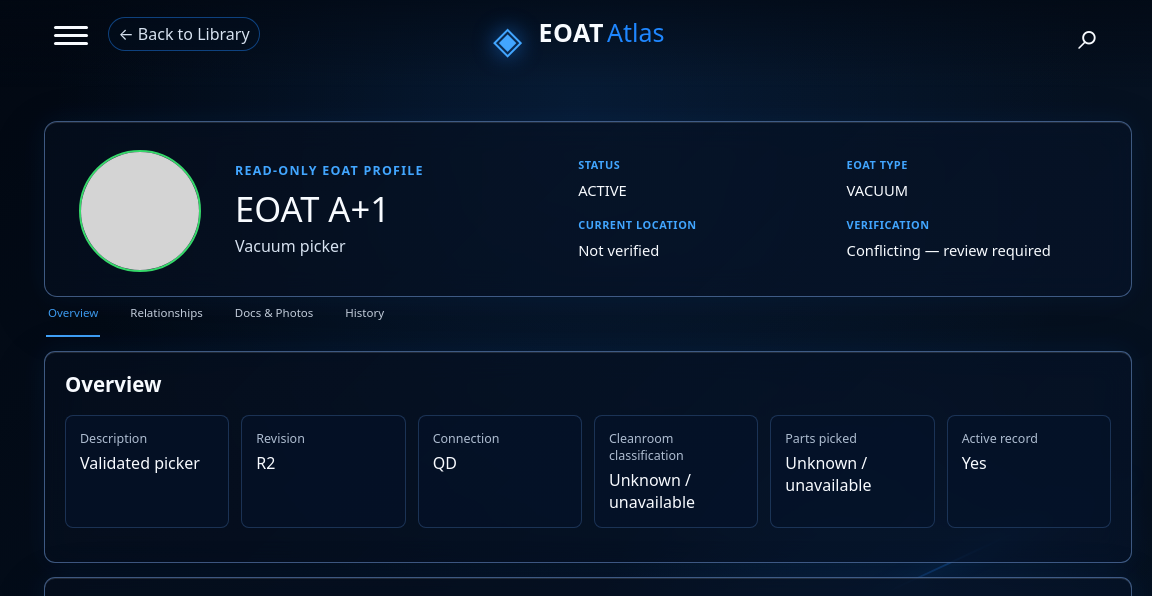
Scenario: EOAT profile route › keeps loaded identity visible when a secondary endpoint fails
Expected: the heading "EOAT A+1" is shown, [235,184,390,232]
Click the link "Relationships": (166, 312) [130,305,203,320]
(page scrolled)
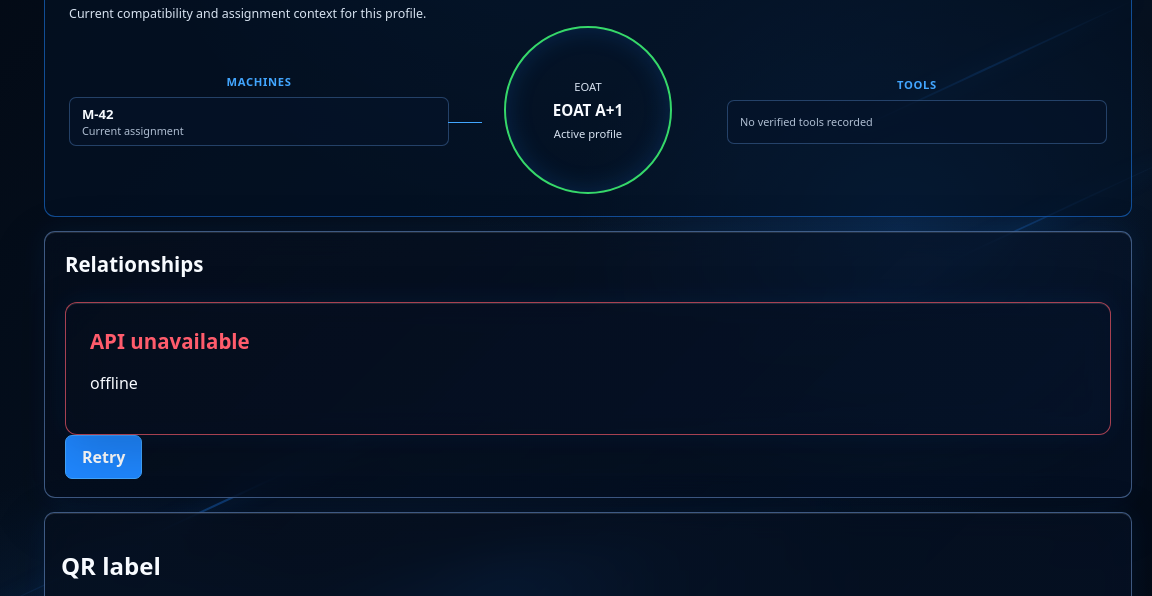
Expected: the heading "API unavailable" is shown, [90,327,250,355]
